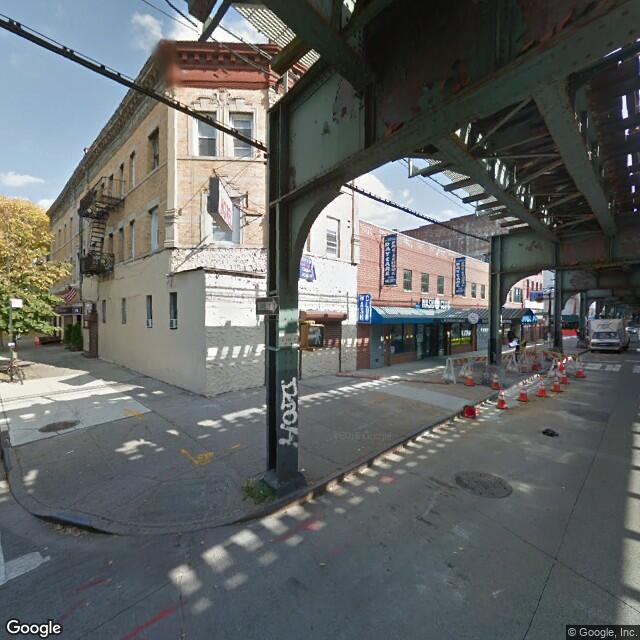litter: (298, 463, 315, 474)
